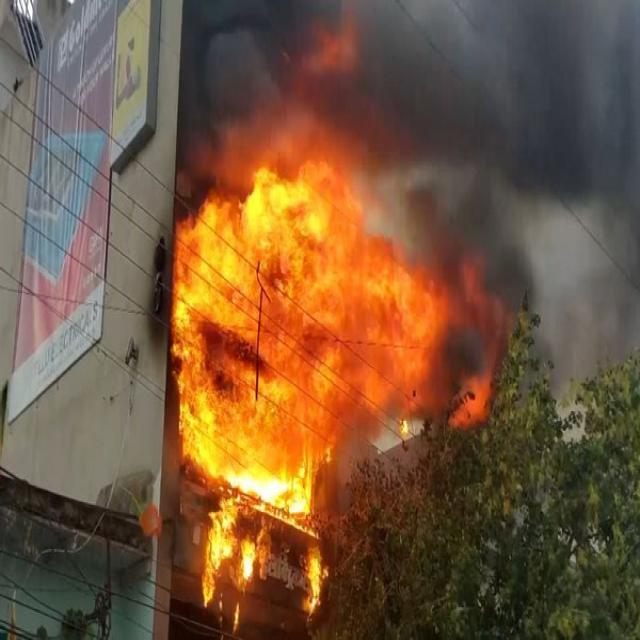fire: (173, 160, 448, 513), (204, 508, 328, 632), (447, 237, 510, 426), (306, 14, 359, 76)
